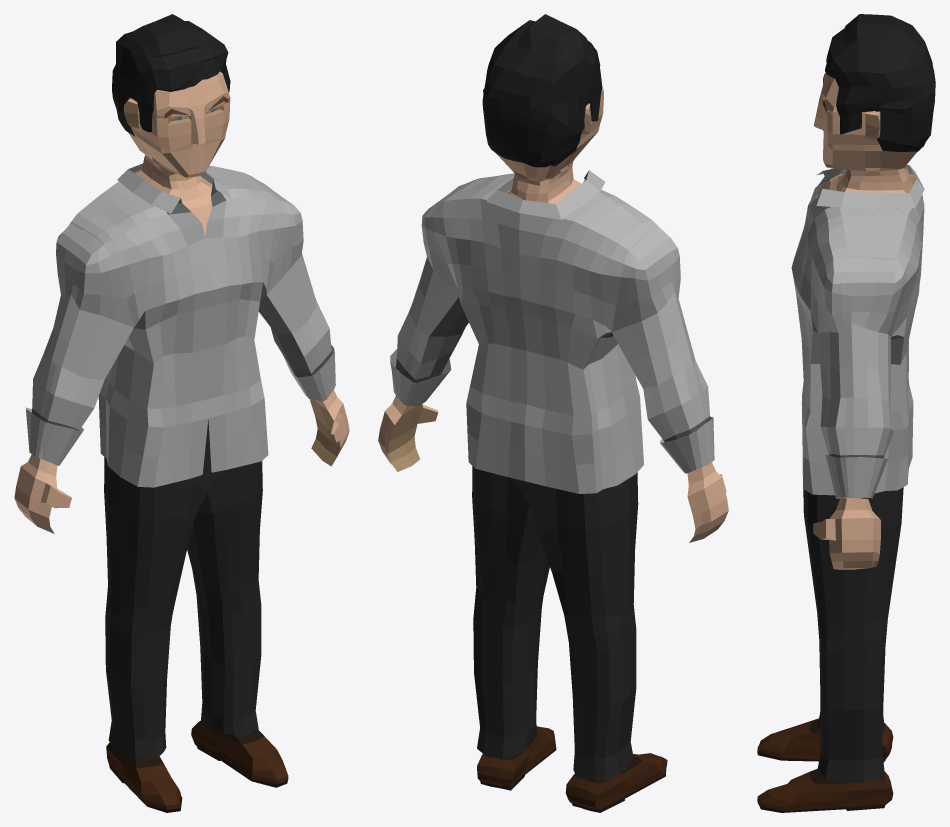
Rendered from Player.fbx.
3 views of the same model, side by side, from view 1: azimuth 30°, elevation 25°; view 2: azimuth 150°, elevation 25°; view 3: azimuth 270°, elevation 25° (orthographic). The views are drawn at different scales.
Parts seen in each view (by area): view 1: Shirt, Pants, Bady, Herr, Shoes; view 2: Shirt, Pants, Herr, Bady, Shoes; view 3: Shirt, Pants, Herr, Bady, Shoes.
Part boxes in pixels (box(x1,y1,x2,y2)): Shirt: box(25, 163, 335, 487); Pants: box(104, 420, 262, 758); Bady: box(14, 71, 349, 533); Herr: box(112, 14, 230, 136); Shoes: box(106, 720, 288, 812); Shirt: box(390, 170, 714, 493); Pants: box(472, 466, 638, 781); Herr: box(482, 14, 602, 167); Bady: box(378, 87, 728, 542); Shoes: box(477, 726, 667, 812); Shirt: box(791, 165, 924, 498); Pants: box(803, 487, 903, 782); Herr: box(825, 14, 935, 151); Bady: box(813, 72, 916, 569); Shoes: box(757, 718, 893, 812).
Size of the model in its own units: 206 by 453 by 96.08.
